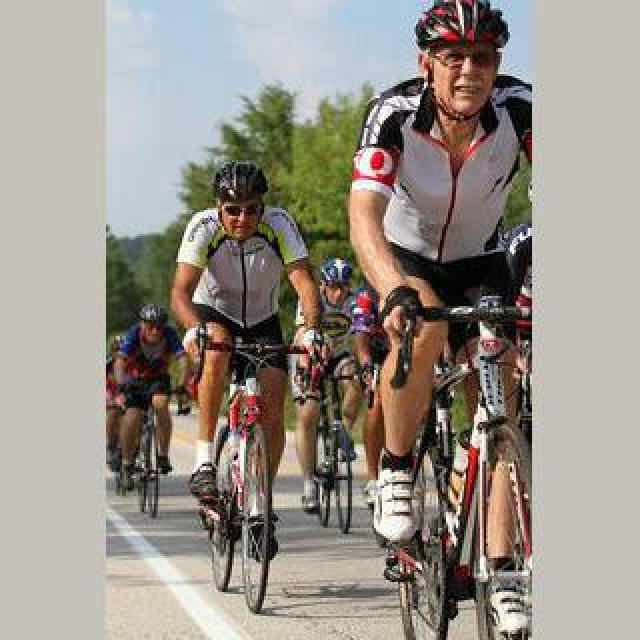MC-Bike: (346, 12, 534, 538), (170, 162, 322, 516), (296, 264, 370, 482), (110, 306, 184, 490)
Person: (414, 294, 532, 640), (366, 311, 490, 635), (190, 333, 298, 611), (295, 340, 361, 532), (120, 395, 170, 517)
